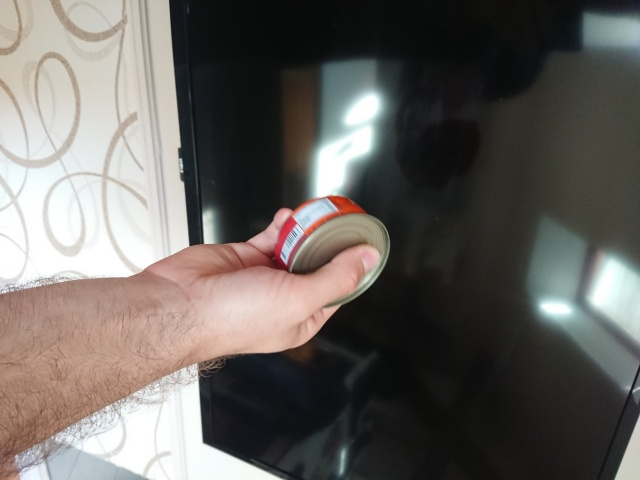Gavrilovic Pork Liver Pate 100g: (272, 194, 392, 309)
